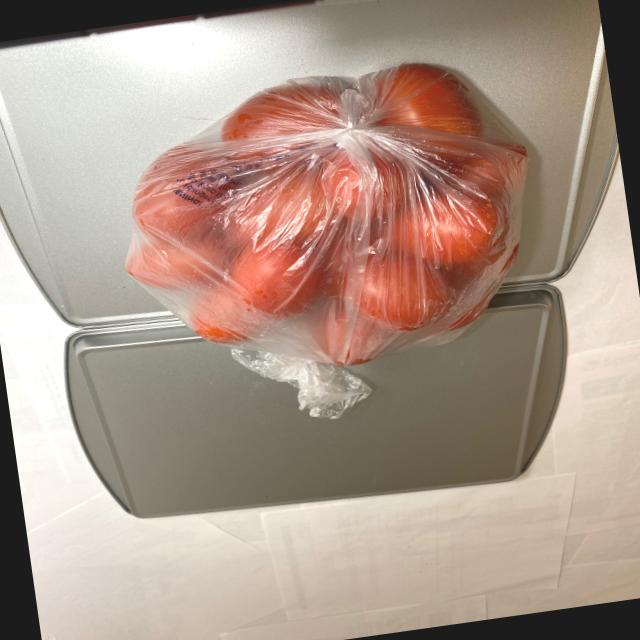tomato: (110, 58, 548, 386)
